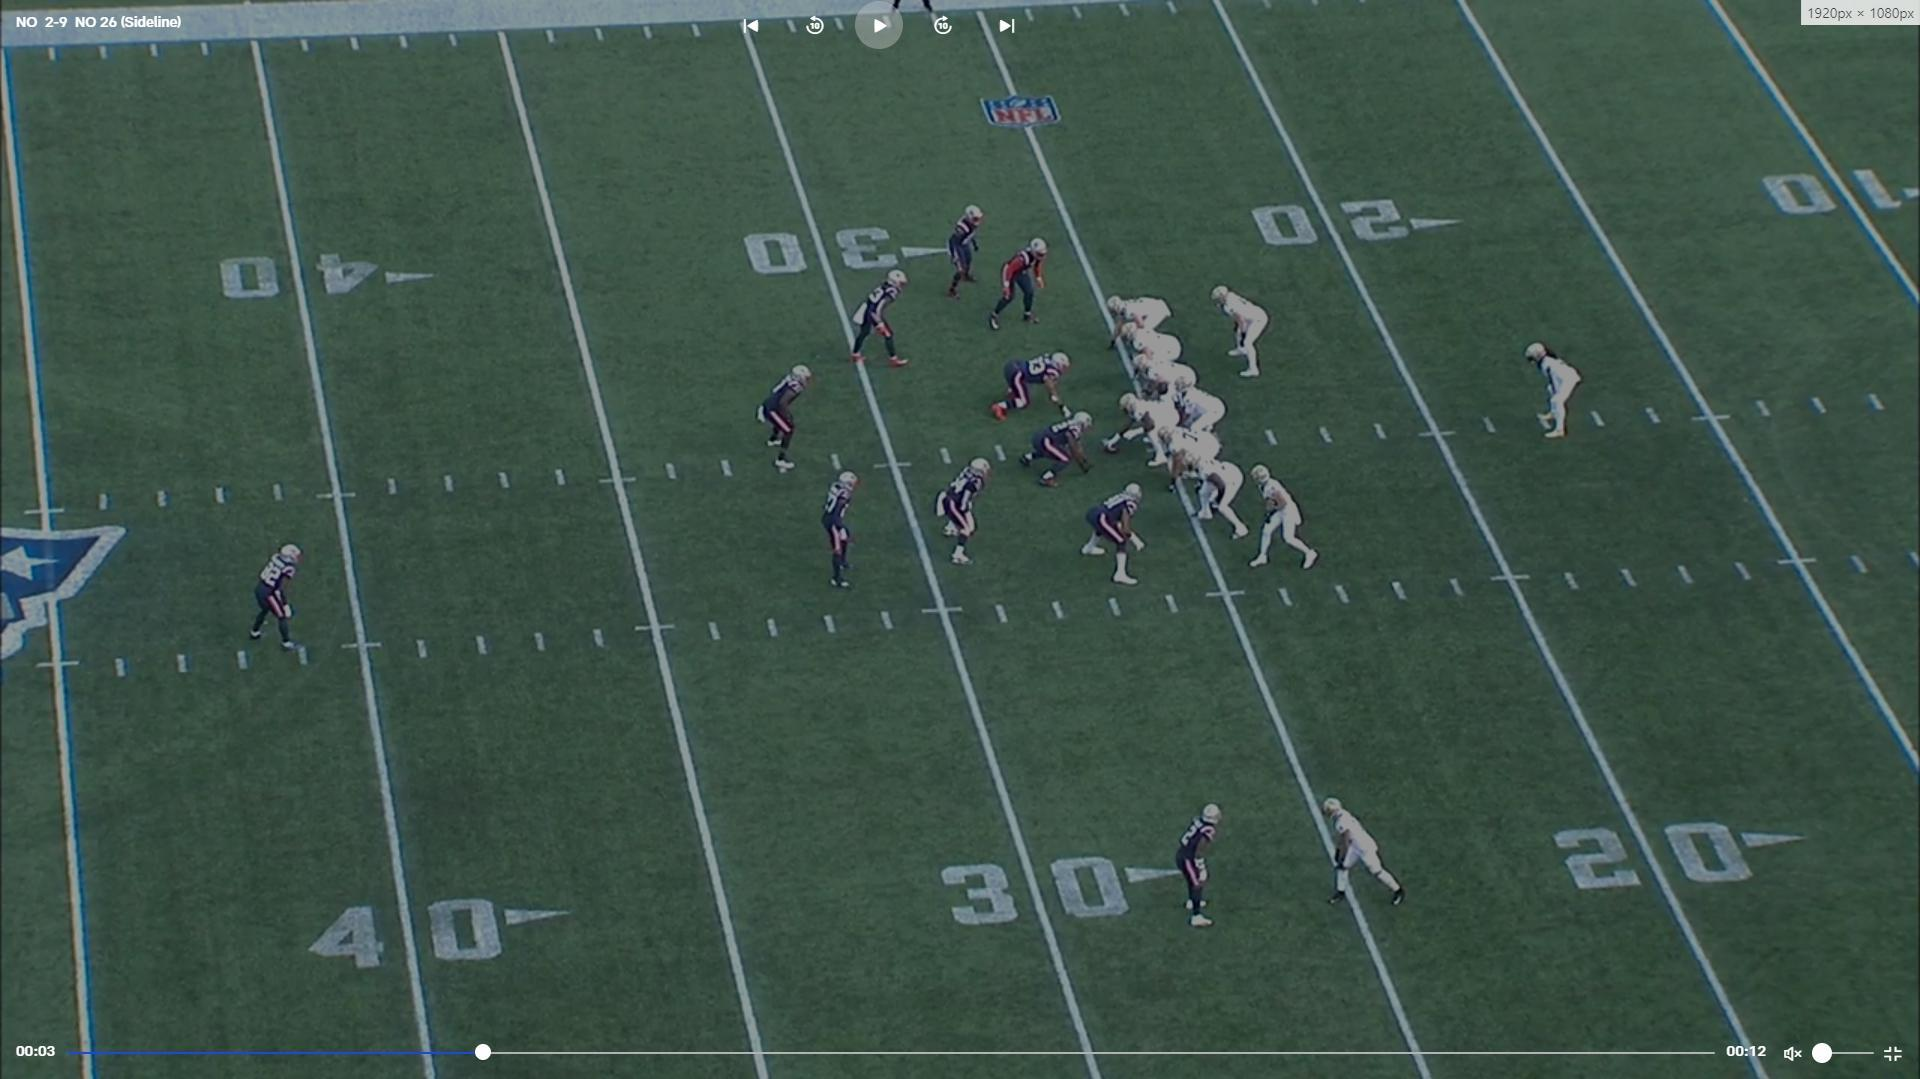defense: (1080, 481, 1150, 590), (248, 541, 311, 657), (1170, 799, 1225, 931), (986, 237, 1056, 335), (845, 266, 909, 373), (992, 350, 1081, 425), (762, 363, 822, 475), (939, 455, 994, 569), (1023, 409, 1098, 491), (820, 468, 868, 596), (943, 203, 989, 303)
oline: (1110, 390, 1189, 471), (1180, 460, 1247, 542), (1155, 427, 1224, 505), (1134, 352, 1201, 406), (1126, 326, 1188, 383)
qb: (1172, 380, 1232, 455)
skill: (1321, 795, 1414, 910), (1249, 466, 1327, 578), (1524, 339, 1588, 442), (1215, 281, 1274, 381), (1101, 297, 1172, 360)
